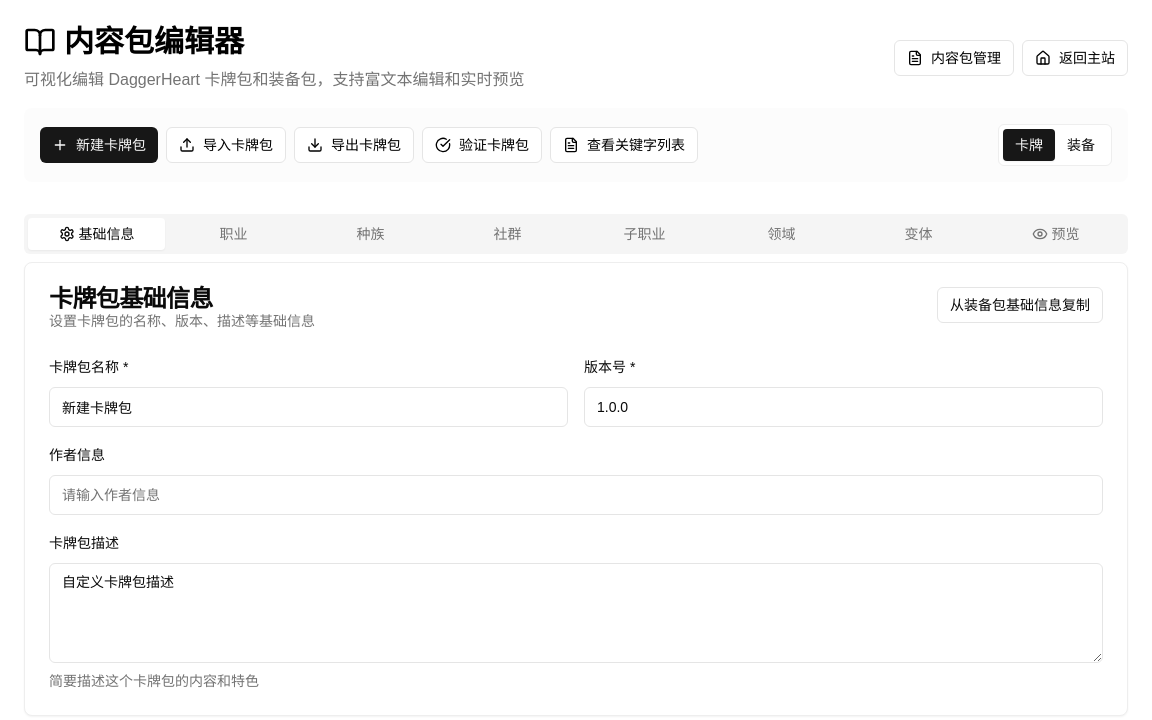
Test case: card editor equipment mode › switches toolbar labels to equipment mode and hides card-only keyword action
This screenshot has width=1152, height=720.
Check: the button "导出卡牌包" is shown, box [294,127,414,163]
Check: the button "查看关键字列表" is shown, box [550,127,698,163]
Click the button "卡牌 装备". click: point(1055, 145)
box: [998,124,1112,166]
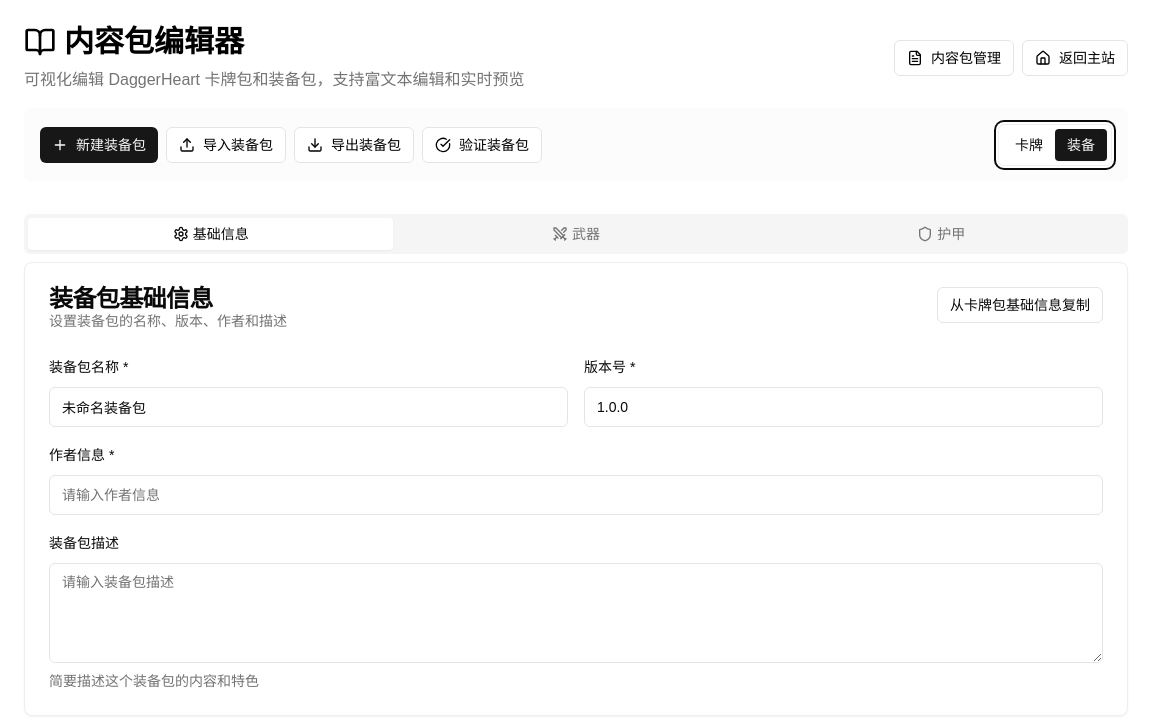
Check: the button "导出装备包" is shown, box [294,127,414,163]
Check: the button "查看关键字列表" is gone
Check: the tab "武器" is shown, box [393,218,759,250]
